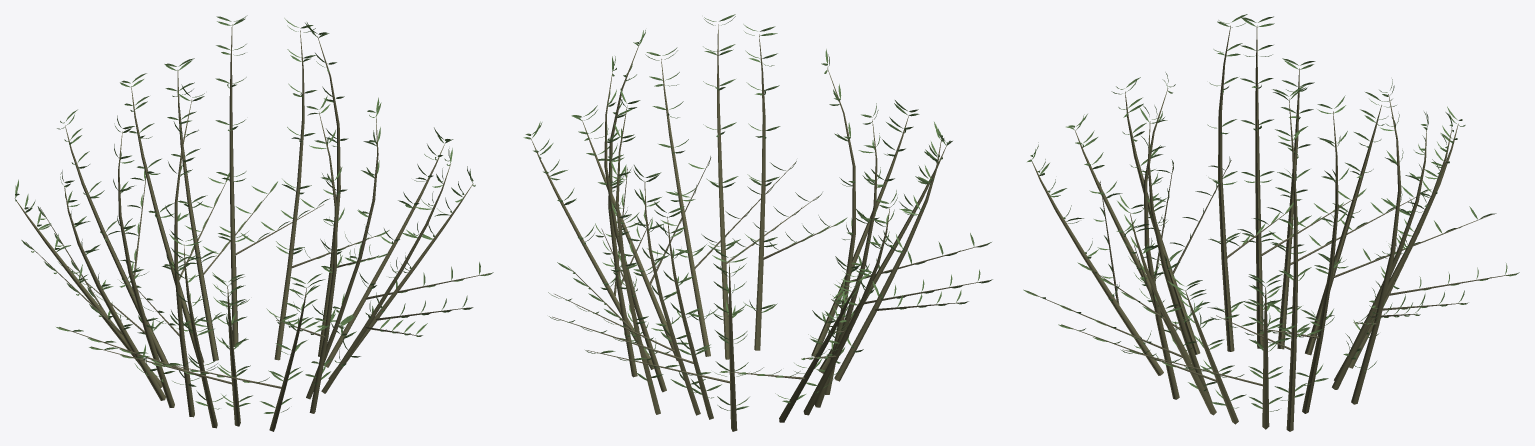
The model's file is salvia-rosmarinus-far.glb.
3 views of the same model, side by side, from view 1: azimuth 30°, elevation 25°; view 2: azimuth 150°, elevation 25°; view 3: azimuth 270°, elevation 25° (orthographic). The views are drawn at different scales.
Visible parts, largest first — view 1: salvia-rosmarinus connected low branching, salvia-rosmarinus dense natural leaf mound; view 2: salvia-rosmarinus connected low branching, salvia-rosmarinus dense natural leaf mound; view 3: salvia-rosmarinus connected low branching, salvia-rosmarinus dense natural leaf mound.
Boxes of the visible parts, x1=… form: salvia-rosmarinus connected low branching: x1=14, y1=24, x2=490, y2=431; salvia-rosmarinus dense natural leaf mound: x1=15, y1=15, x2=493, y2=413; salvia-rosmarinus connected low branching: x1=531, y1=24, x2=988, y2=431; salvia-rosmarinus dense natural leaf mound: x1=523, y1=14, x2=992, y2=410; salvia-rosmarinus connected low branching: x1=1027, y1=25, x2=1516, y2=431; salvia-rosmarinus dense natural leaf mound: x1=1023, y1=14, x2=1519, y2=411.
Bounding box in the file's own units: 0.8412 × 0.6563 × 0.8662.
